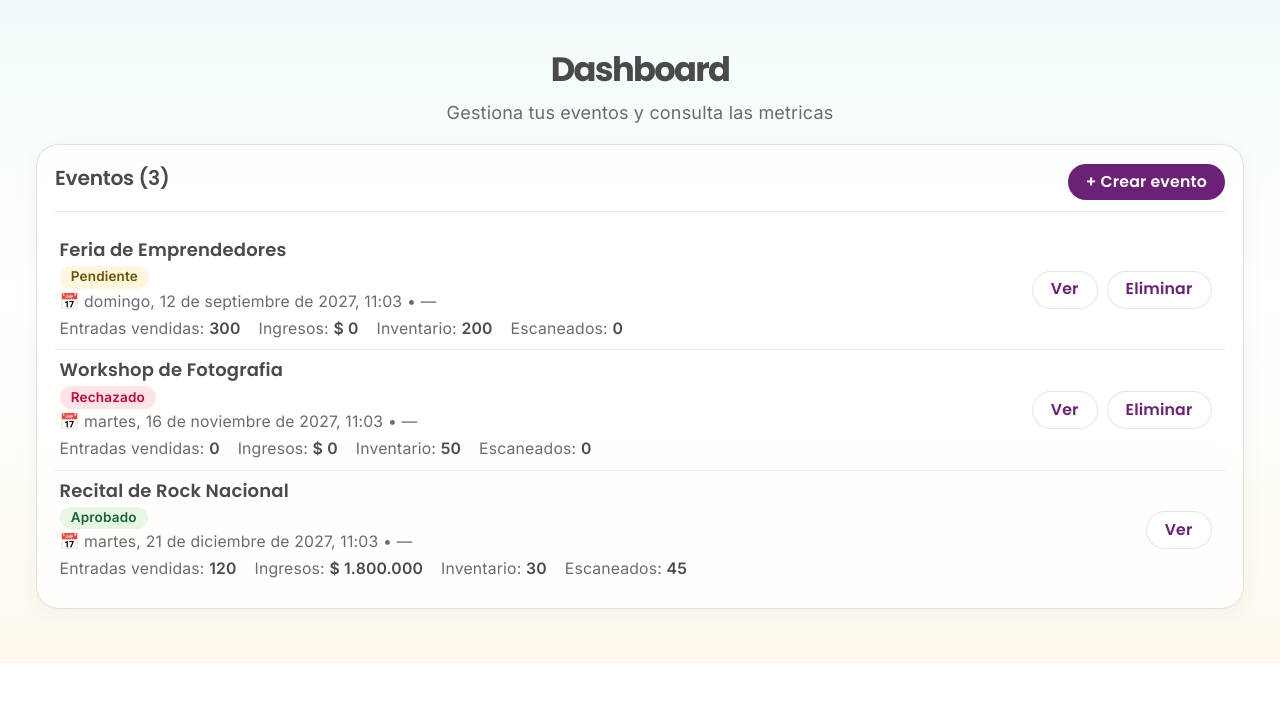
OrganizerDashboard › "Cancelar" closes the confirmation without deleting
The width and height of the screenshot is (1280, 720).
Expected: the heading "Feria de Emprendedores" is shown, [60,237,287,262]
Click the button with aria-label "eliminar feria de emprendedores". click: (1159, 290)
box: [1107,271,1212,309]
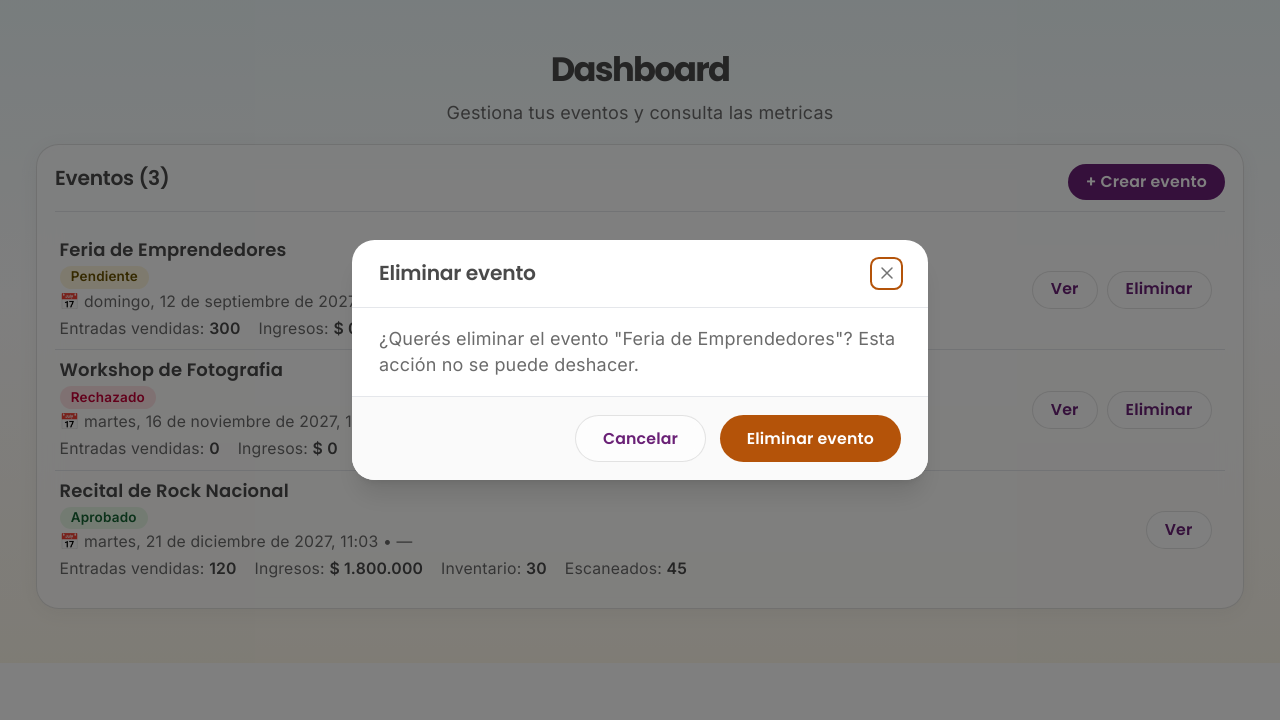
Click the button "Cancelar". click: (641, 439)
box: [575,415,706,462]
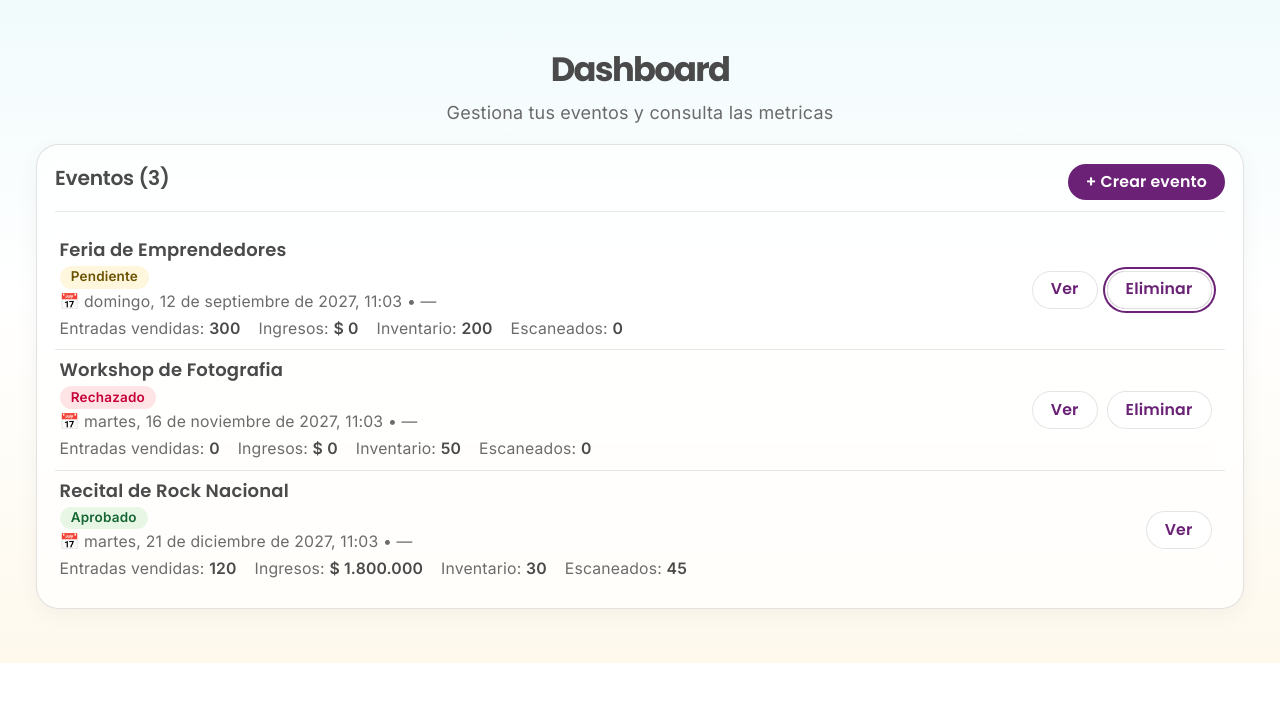
Expected: the dialog is gone
